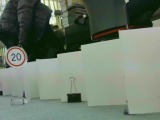speed_20: (4, 46, 29, 68)
